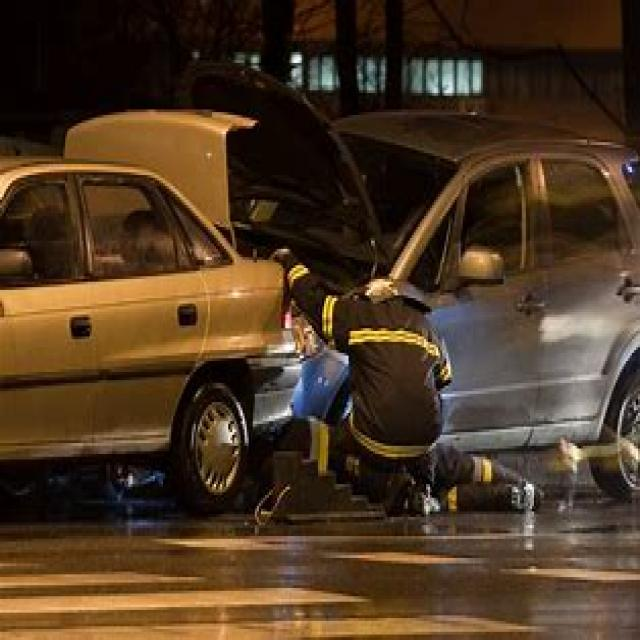Accident: (85, 64, 537, 520)
